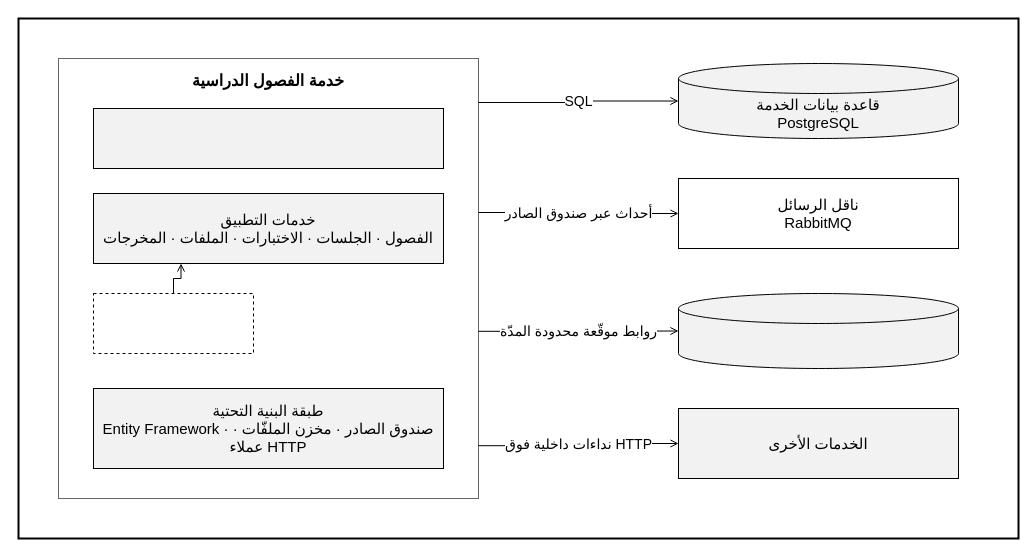
Some shapes in this 1036 by 556 pixel diagram are drawn without their labels. Here are the shapes that lost their labels. From the top down, the centre of each, then its label:
At point 268,138: "طبقة العرض ASP.NET Core Web API".
At point 173,323: "مهام خلفية دورية".
At point 818,330: "مخزن الملفّات MinIO / S3".
